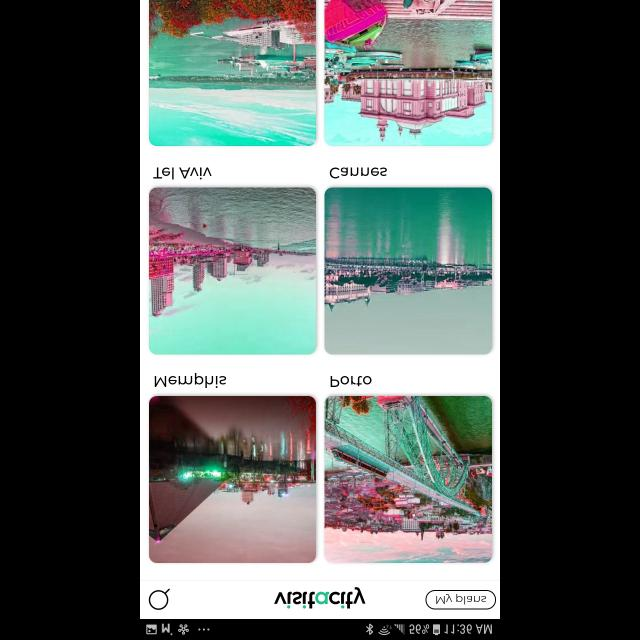icon: (149, 588, 171, 610)
image: (324, 188, 492, 354), (150, 188, 316, 354), (326, 396, 492, 562), (150, 396, 316, 562), (324, 0, 492, 146), (150, 0, 316, 146), (274, 586, 366, 608)
text: (154, 372, 226, 388), (154, 167, 212, 179), (329, 168, 387, 178), (331, 376, 372, 388)
textbutton: (426, 590, 496, 610)
uppertaskbar: (140, 618, 500, 640)
